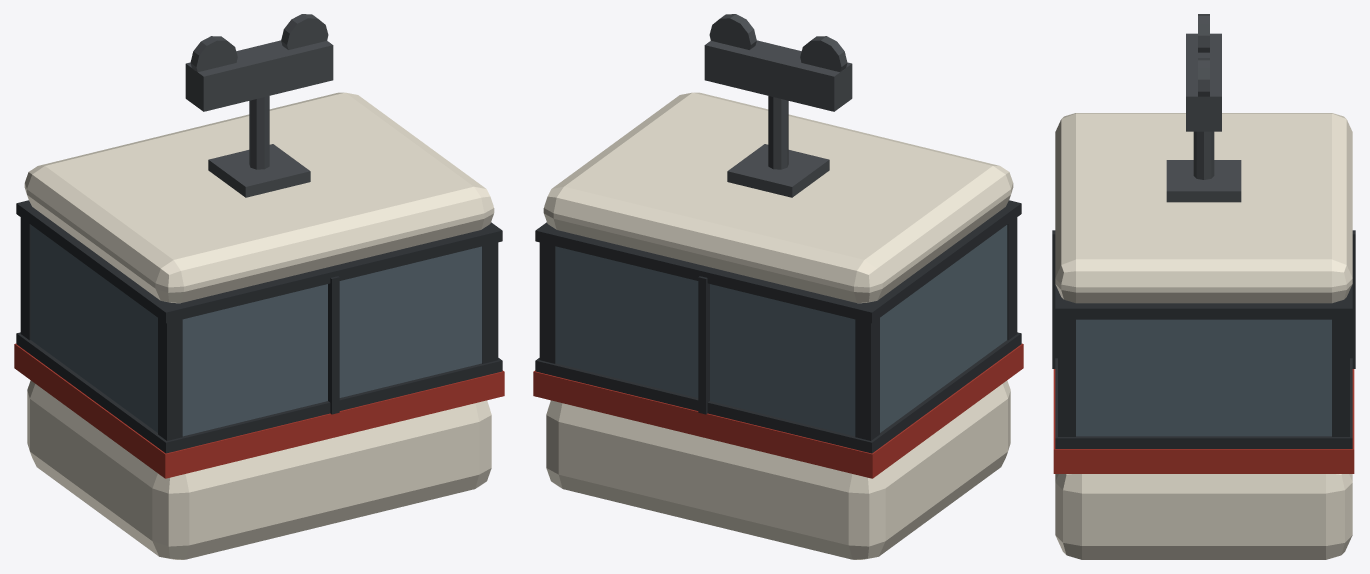
The model's file is gondola.glb.
3 renders of one model, left to right at view 1: azimuth 30°, elevation 25°; view 2: azimuth 150°, elevation 25°; view 3: azimuth 270°, elevation 25°, orthographic.
Parts seen in each view (by area): view 1: senkoji_gondola; view 2: senkoji_gondola; view 3: senkoji_gondola.
Part boxes in pixels (x1,y1,x2,y2): senkoji_gondola: (14,14,504,559); senkoji_gondola: (533,14,1023,559); senkoji_gondola: (1052,14,1355,559).
Size of the model in its own units: 2.62 by 3.34 by 2.04.
